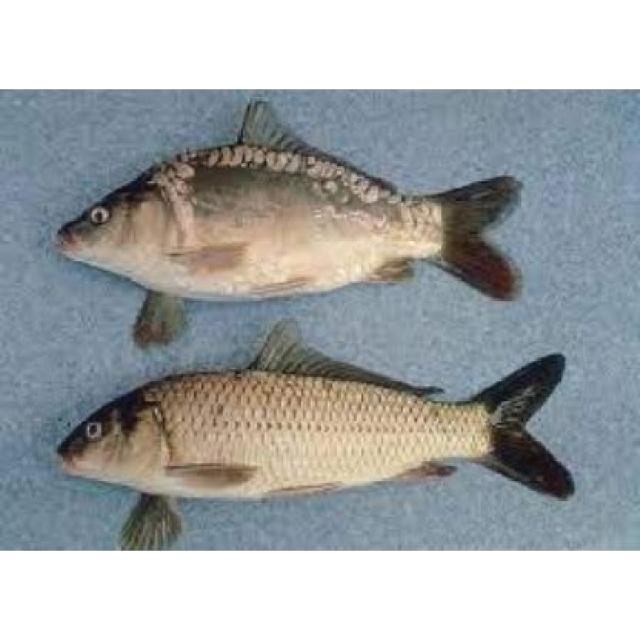ikan-mas: (50, 110, 522, 316), (57, 350, 566, 512)
